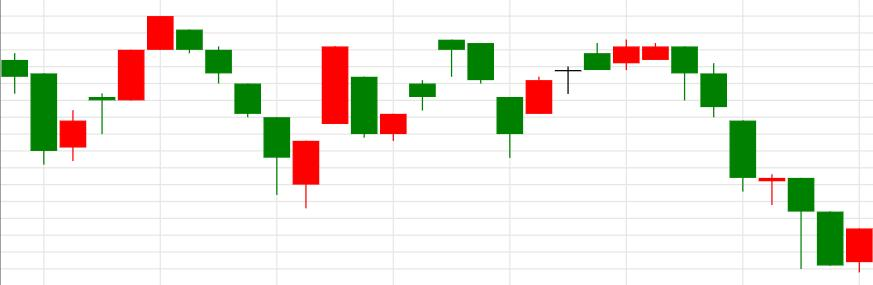hammer_rise: (671, 48, 814, 268)
